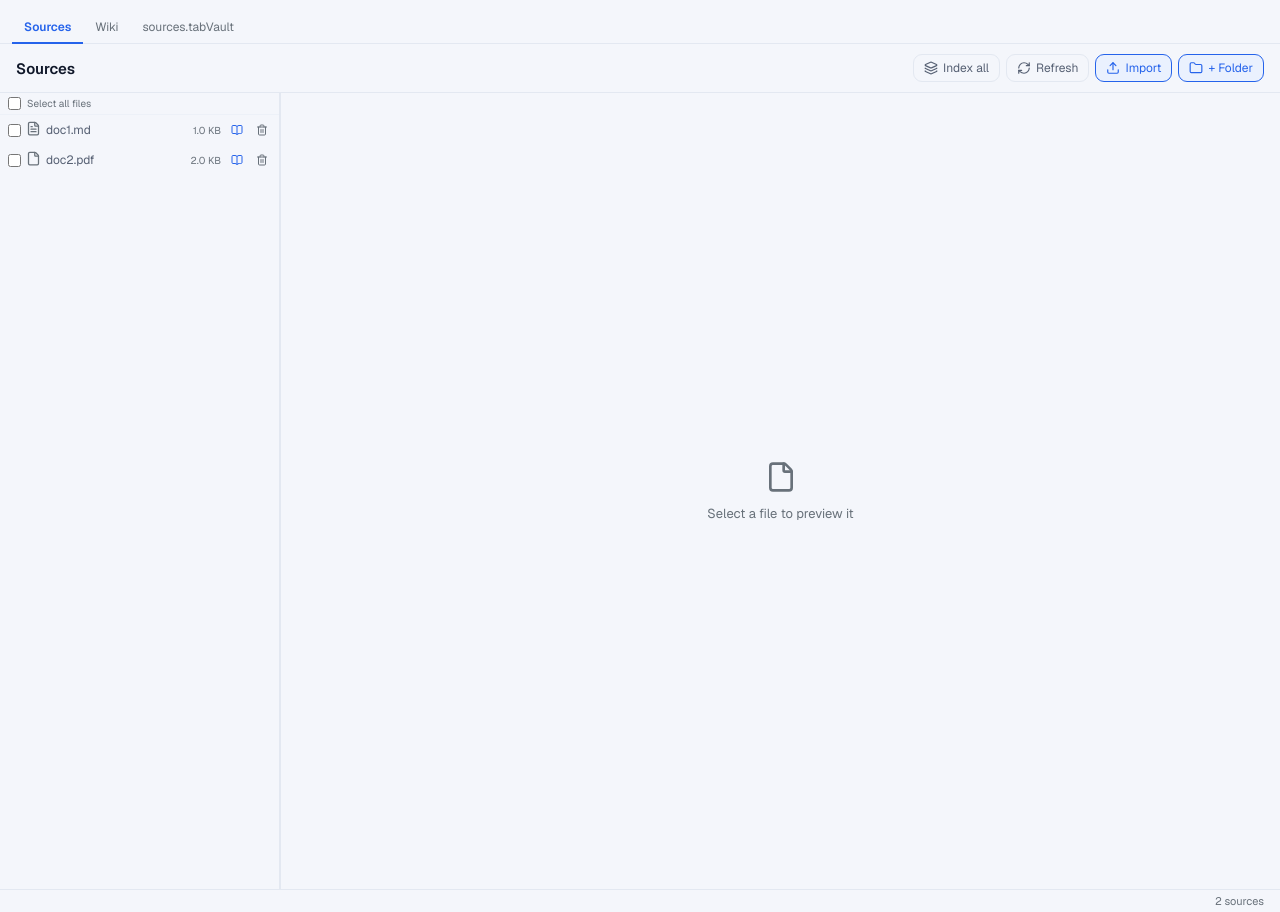
Test: SourcesView — R7-11 bulk multi-select (AC-R7-11-1) › select-all checkbox selects all file rows
What coordinates should you click on to do the following:
click the checkbox with test id "sources-select-all"
I would click on:
 (14, 104)
Its box is [8,97,21,110].
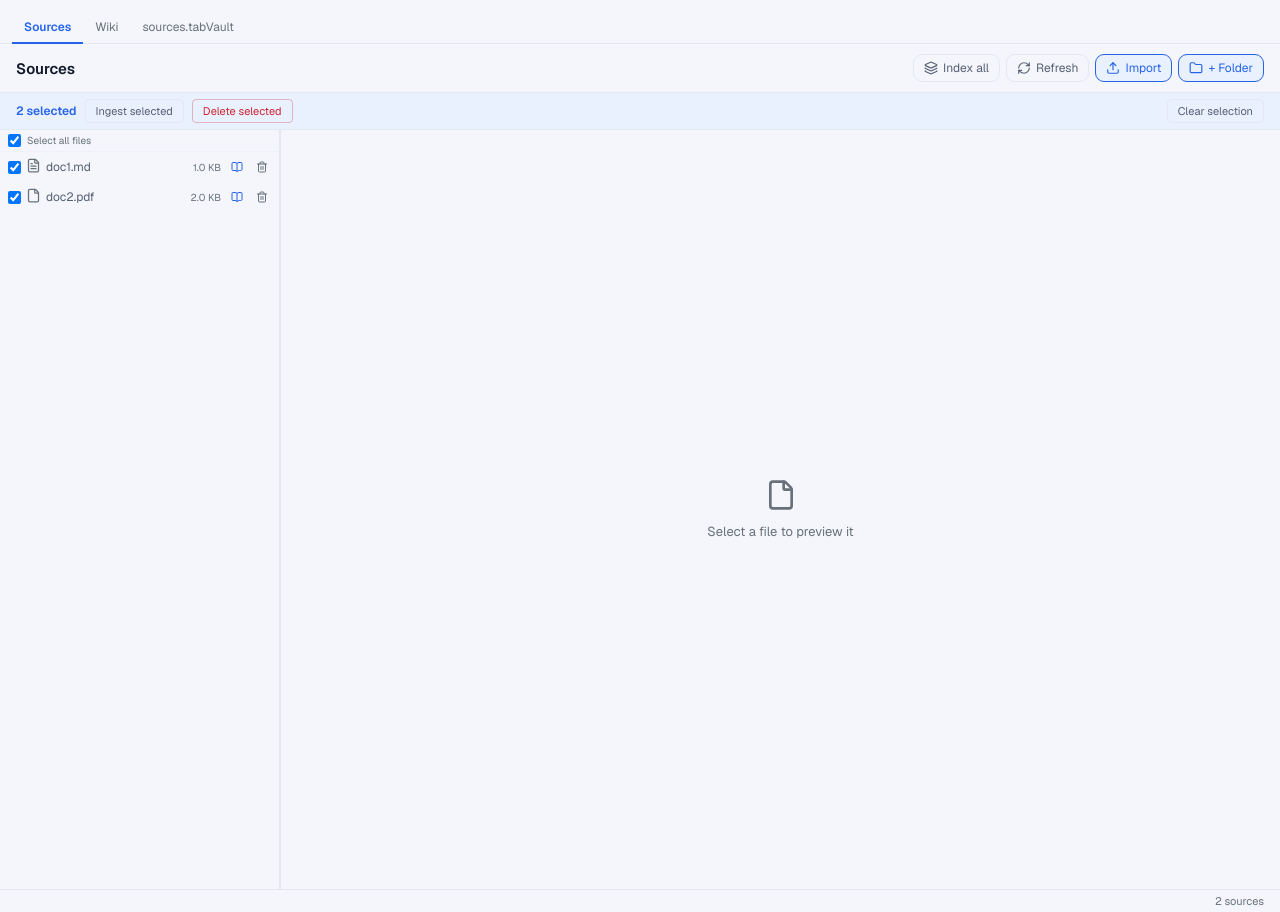
Expected: the element with test id "sources-bulk-bar" is shown, [0,93,1279,130]
Expected: the text "2 selected" is shown, [16,103,76,119]
